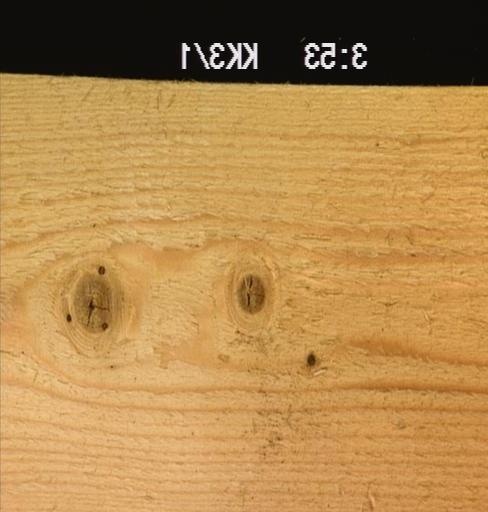dry_knot: (303, 349, 317, 368)
sound_knot: (65, 261, 116, 333), (235, 270, 267, 315)
